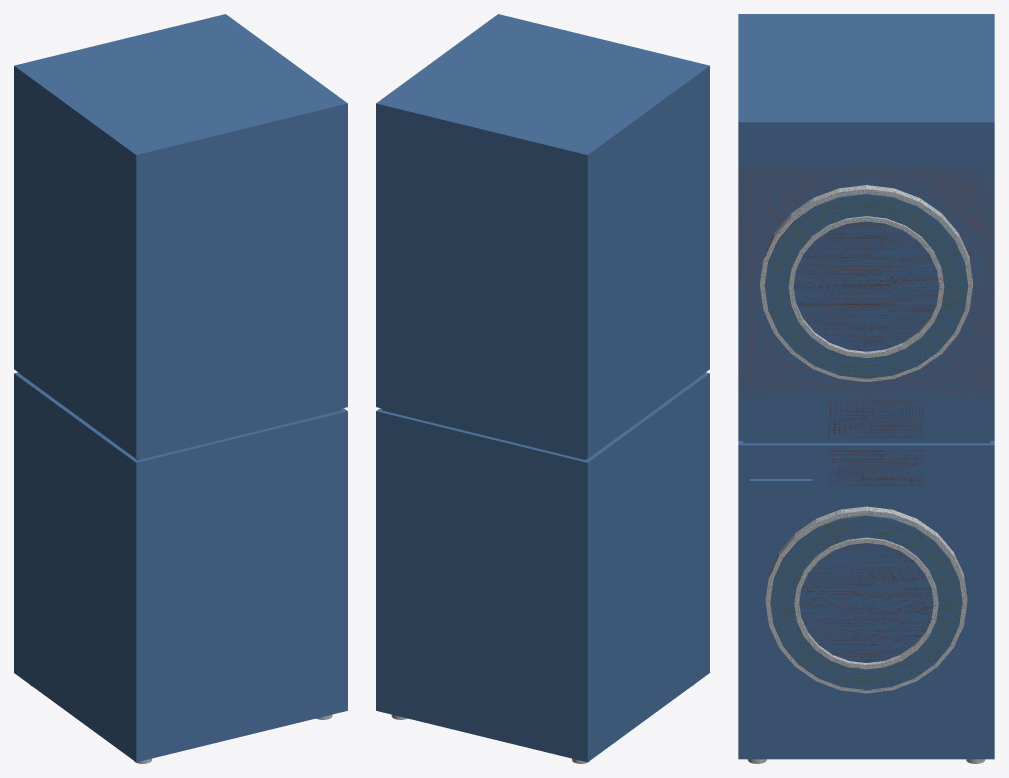
3 views of the same model, side by side, from view 1: azimuth 30°, elevation 25°; view 2: azimuth 150°, elevation 25°; view 3: azimuth 270°, elevation 25° (orthographic). The views are drawn at different scales.
Visible parts, largest first — view 1: mesh1_mesh1-geometry; view 2: mesh1_mesh1-geometry; view 3: mesh1_mesh1-geometry.
Boxes of the visible parts, x1,y1,x2,y2 form: mesh1_mesh1-geometry: [14, 14, 347, 763]; mesh1_mesh1-geometry: [376, 14, 709, 763]; mesh1_mesh1-geometry: [738, 14, 994, 763].
Bounding box in the file's own units: 0.3367 × 0.886 × 0.3189.
